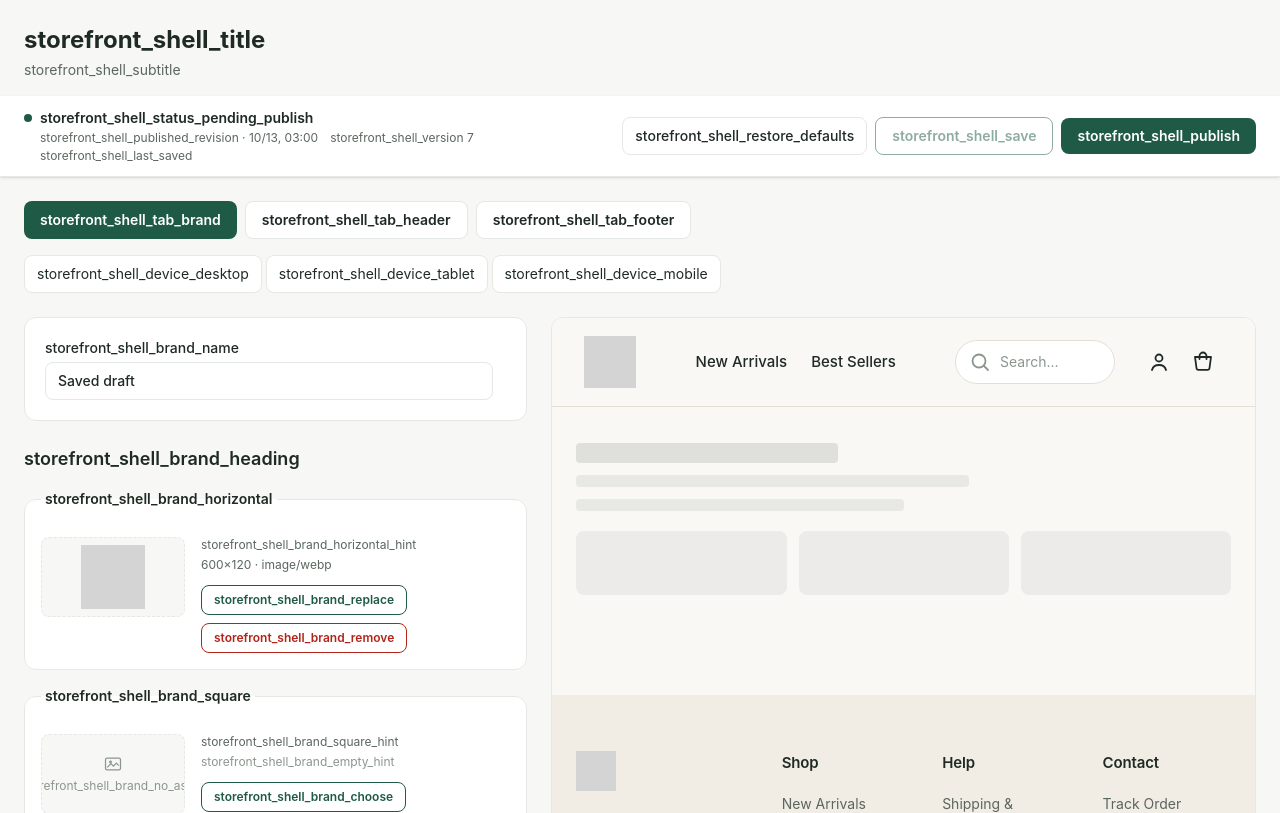
Test: StorefrontShellEditor save and publish lifecycle › publishes the exact saved version and trusts only each server response
The image size is (1280, 813).
Expected: the field showing "Saved draft" is shown, left=45, top=362, right=493, bottom=400
Click the button "storefront_shell_publish".
click(1159, 136)  # box left=1061, top=118, right=1256, bottom=154
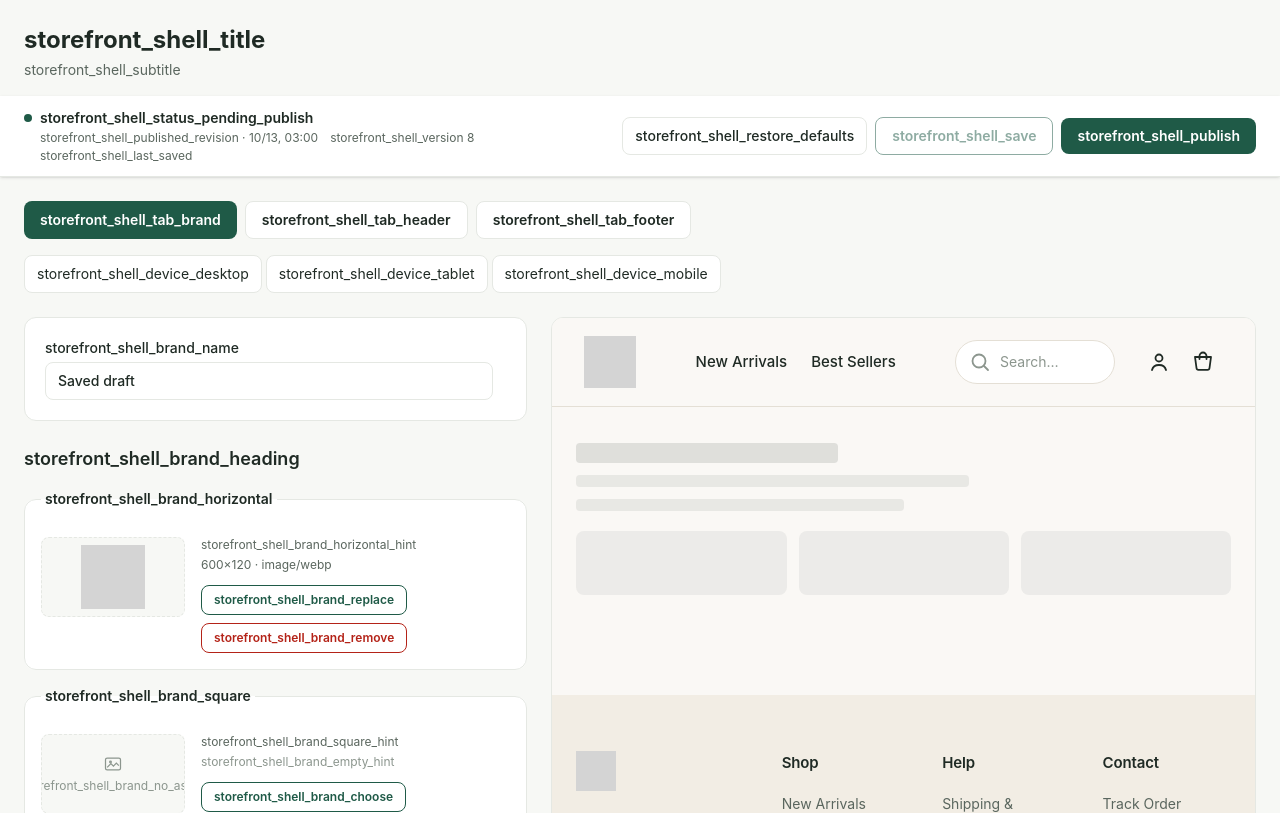
Expected: the text "storefront_shell_status_pending_publish" is shown, left=40, top=108, right=313, bottom=128
Click the button "storefront_shell_publish".
click(1159, 136)  # box left=1061, top=118, right=1256, bottom=154
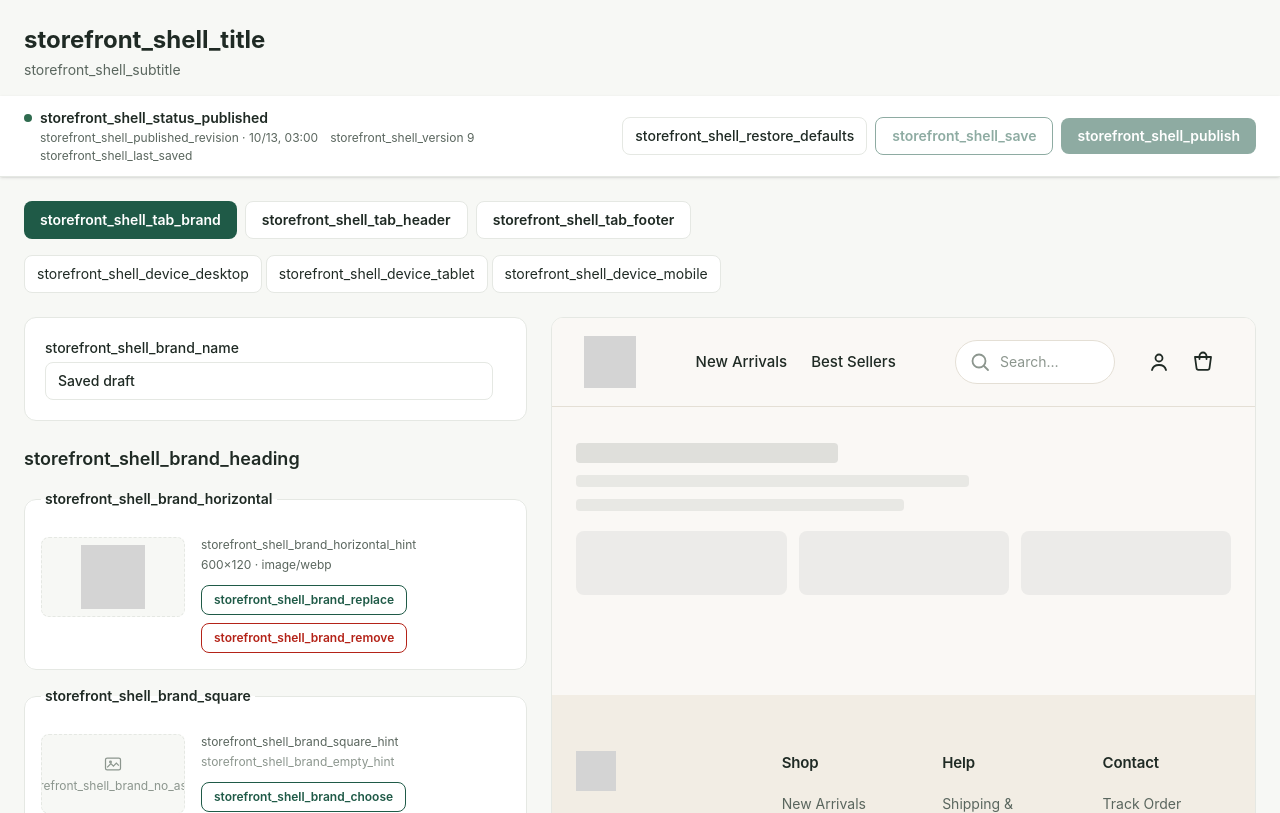
Expected: the text "storefront_shell_status_published" is shown, left=40, top=108, right=268, bottom=128
